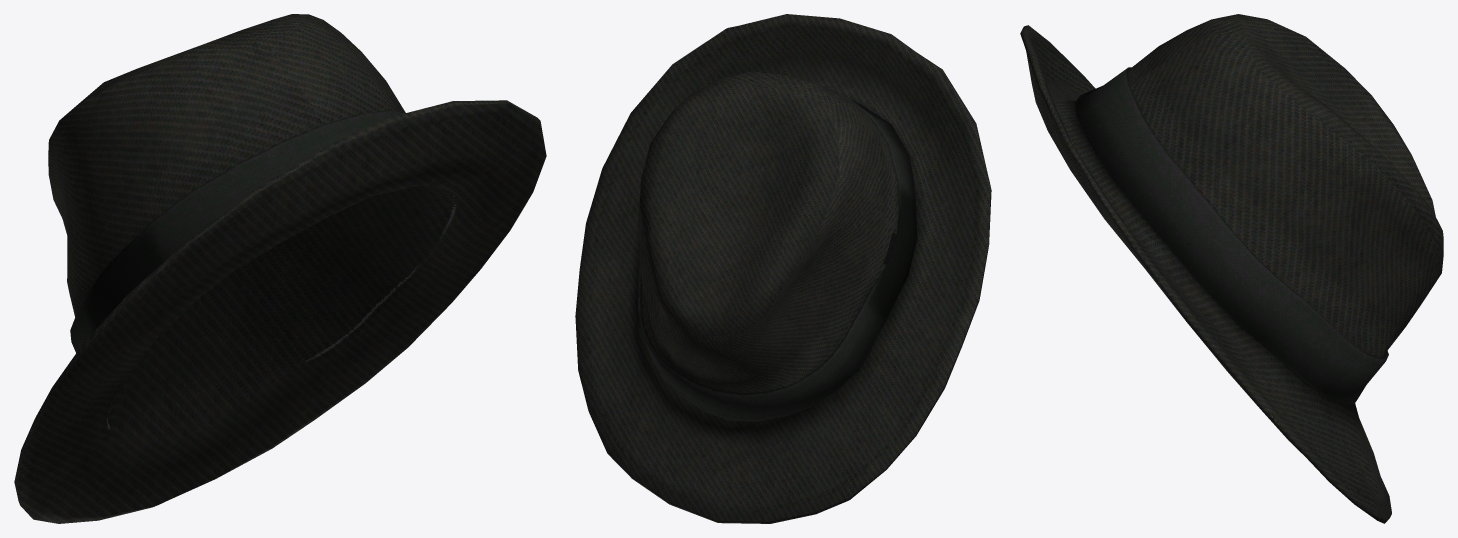
File: fedora_hat.glb
The picture shows the model from 3 angles, left to right: view 1: azimuth 30°, elevation 25°; view 2: azimuth 150°, elevation 25°; view 3: azimuth 270°, elevation 25°; orthographic projection. The views are drawn at different scales.
Parts seen in each view (by area): view 1: FedoraHatMesh; view 2: FedoraHatMesh; view 3: FedoraHatMesh.
Boxes of the visible parts, <box> form: FedoraHatMesh: <box>14,14,546,523</box>; FedoraHatMesh: <box>575,14,991,523</box>; FedoraHatMesh: <box>1020,14,1443,523</box>.
Size of the model in its own units: 0.1915 by 0.1979 by 0.1613.
Materials: 1 (1 with a texture image).
